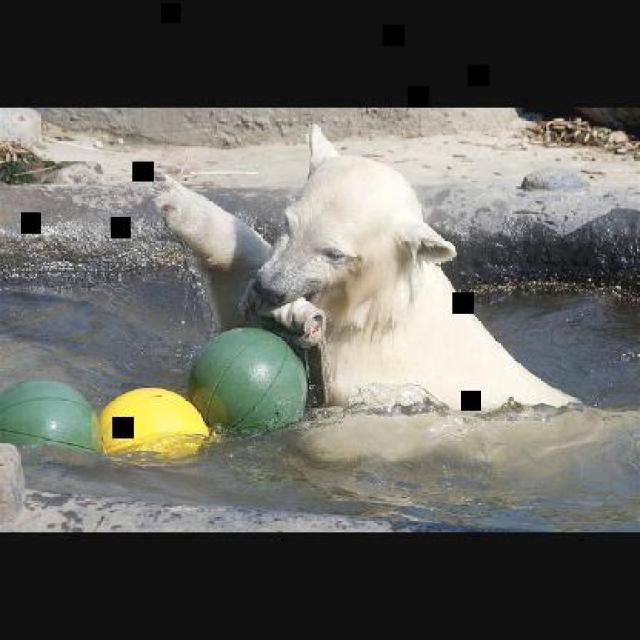unauthorized: (152, 120, 585, 415)
